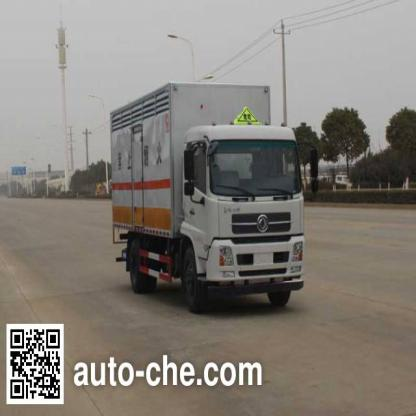normal-truck: (106, 72, 298, 298)
